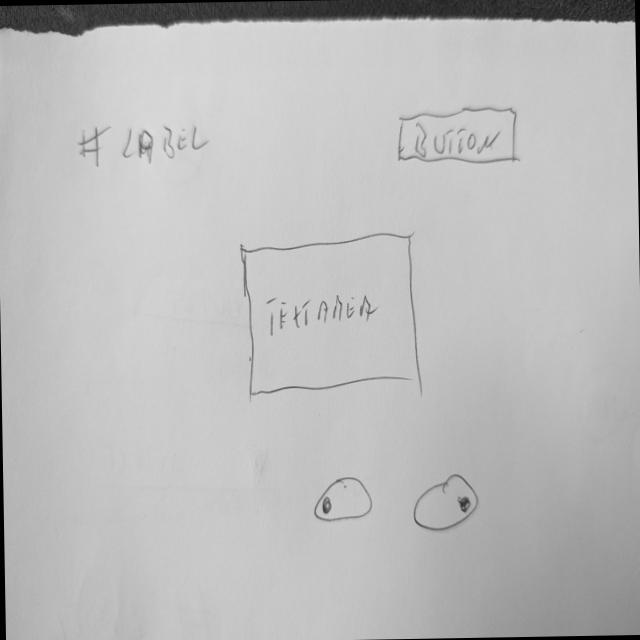button: (394, 107, 520, 169)
label: (77, 118, 213, 170)
toggle: (410, 471, 482, 536), (311, 475, 376, 525)
